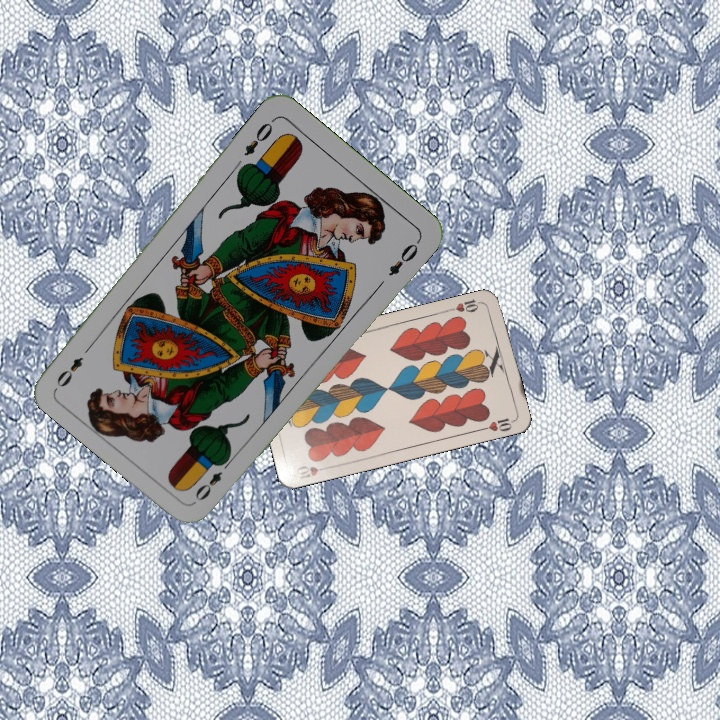EO: (190, 454, 235, 504), (240, 114, 277, 159)
H10: (292, 461, 332, 483), (446, 295, 486, 315)
